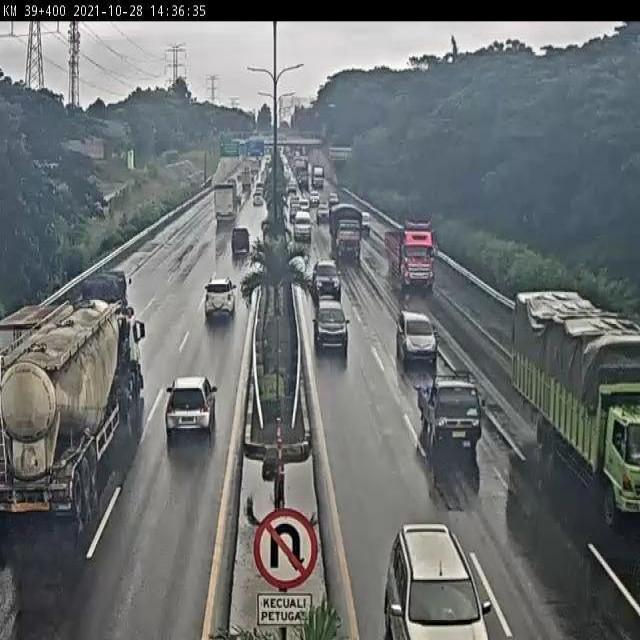truck-m-: (511, 295, 640, 524), (386, 225, 435, 287), (328, 197, 363, 255)
truck-xl-: (0, 298, 146, 542)
